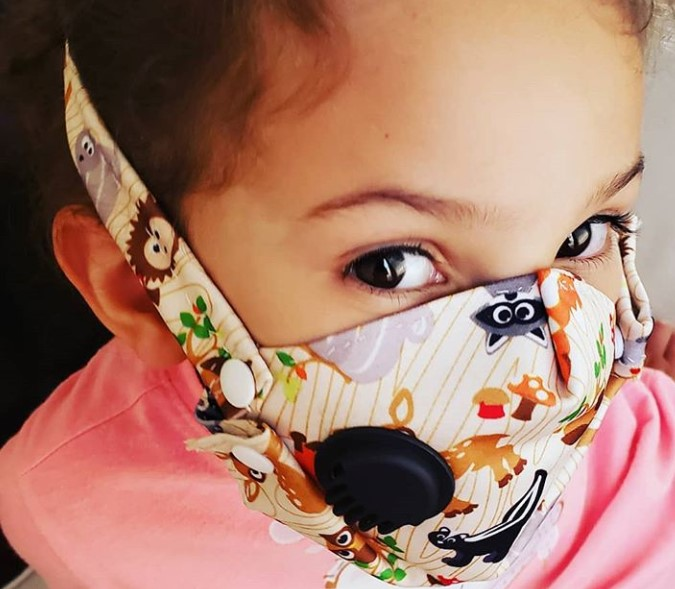face_with_mask: (41, 3, 659, 588)
